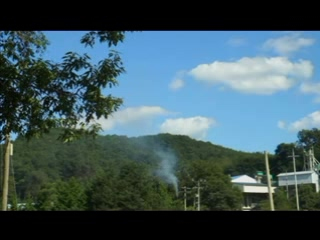smoke: (147, 146, 184, 202)
